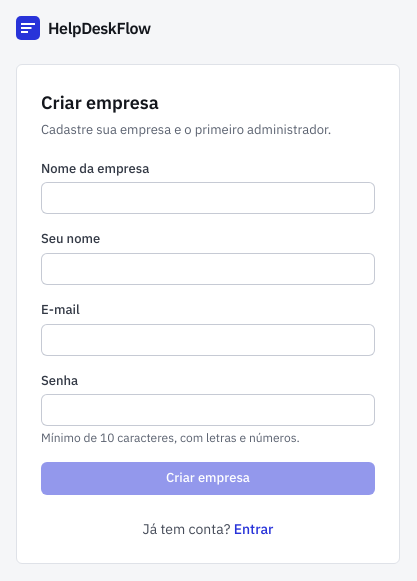
RegisterPage › envia o cadastro e acompanha o status até a empresa ficar ativa
Type "Acme" into the field labelled "Nome da empresa".
click(208, 198); type("Acme")  # box [41,182,375,214]
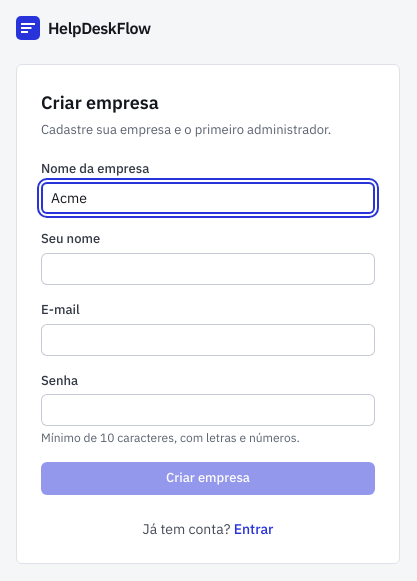
Type "Ana" into the field labelled "Seu nome".
click(208, 269); type("Ana")  # box [41,253,375,285]
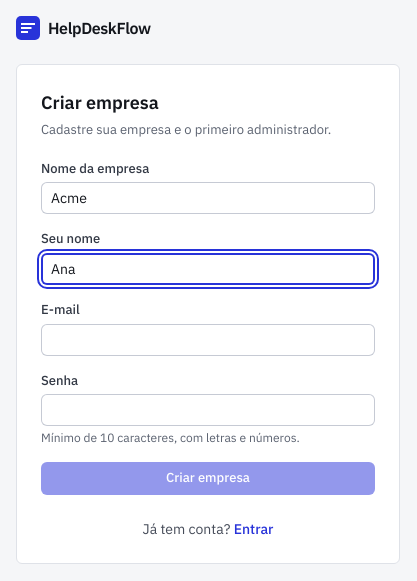
Type "ana@acme.com" into the field labelled "E-mail".
click(208, 340); type("ana@acme.com")  # box [41,324,375,356]
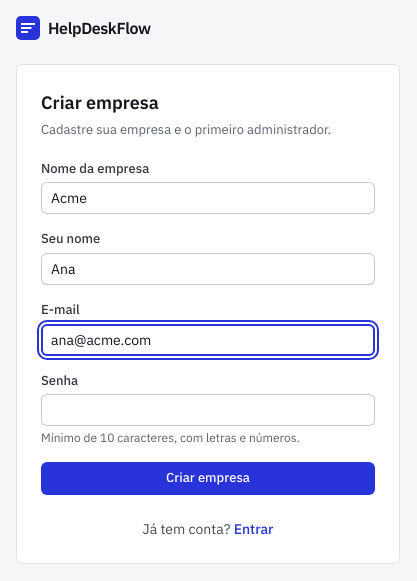
Type "senhaForte123" into the password field labelled "Senha".
click(208, 410); type("senhaForte123")  # box [41,394,375,426]
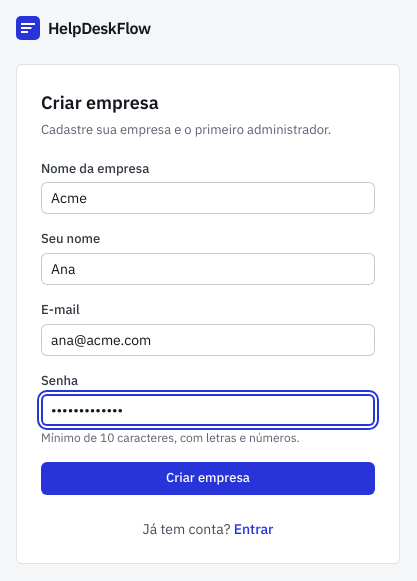
Click the button "Criar empresa".
click(208, 478)  # box [41,462,375,495]
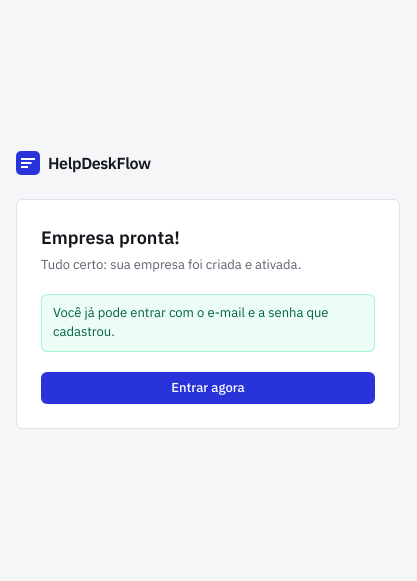
expect the heading "Empresa pronta!" is shown: met, box [41,226,180,249]
